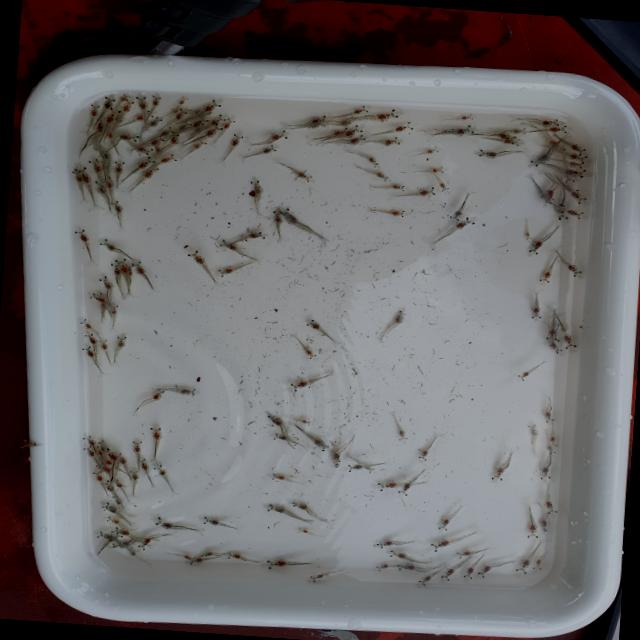babyshrimp: (276, 206, 309, 227), (512, 552, 536, 575), (305, 432, 329, 454), (427, 535, 457, 552), (283, 497, 316, 512), (476, 561, 503, 579), (111, 256, 132, 279), (287, 166, 315, 183), (184, 249, 209, 268), (97, 236, 123, 254), (264, 502, 297, 516), (71, 226, 92, 248), (367, 108, 400, 122), (543, 493, 563, 516), (137, 389, 167, 404), (527, 150, 552, 168), (488, 461, 508, 483), (328, 444, 344, 471), (196, 98, 223, 114), (379, 121, 415, 133), (158, 387, 201, 397), (490, 134, 523, 147), (264, 411, 289, 428), (287, 378, 315, 393), (557, 205, 585, 220), (534, 262, 553, 284), (552, 199, 570, 222), (148, 426, 163, 453), (153, 516, 180, 531), (131, 155, 156, 171), (199, 122, 224, 138), (141, 162, 160, 183), (460, 558, 476, 582), (245, 178, 264, 198), (85, 157, 103, 178), (449, 215, 478, 228), (86, 291, 111, 306), (397, 476, 414, 498), (337, 123, 363, 137), (538, 456, 552, 482), (94, 274, 113, 293), (527, 237, 546, 256), (438, 563, 457, 582), (434, 513, 452, 533), (561, 261, 582, 278), (415, 571, 436, 588), (301, 340, 318, 361), (216, 238, 238, 254), (565, 141, 587, 157), (544, 317, 558, 342), (251, 143, 280, 155), (476, 147, 505, 159), (79, 344, 98, 362), (391, 307, 409, 326), (151, 124, 177, 137), (546, 431, 559, 457), (566, 149, 587, 165), (568, 189, 589, 205), (561, 329, 577, 350), (129, 438, 144, 460), (261, 559, 291, 570), (446, 124, 476, 135), (130, 109, 155, 122), (446, 203, 464, 221), (215, 264, 238, 278), (204, 113, 227, 127), (524, 516, 538, 539), (120, 96, 136, 116), (516, 366, 536, 382), (540, 405, 556, 425), (107, 198, 122, 219), (93, 178, 108, 199), (344, 462, 370, 474), (413, 185, 437, 198), (199, 516, 227, 527), (77, 434, 99, 448), (416, 444, 432, 463), (128, 258, 144, 277), (230, 132, 246, 151), (563, 168, 588, 180), (373, 563, 403, 573), (77, 166, 91, 187), (539, 124, 568, 134), (69, 169, 86, 186), (383, 208, 407, 220), (343, 104, 369, 115), (386, 549, 412, 560), (272, 128, 291, 143), (529, 300, 543, 320), (268, 431, 293, 442), (344, 133, 369, 144), (504, 126, 529, 137), (547, 340, 564, 356), (523, 423, 539, 440), (114, 335, 129, 353), (305, 317, 324, 331), (94, 529, 116, 541), (102, 514, 122, 527), (136, 535, 152, 551), (88, 469, 105, 484), (101, 96, 118, 111), (363, 153, 380, 168), (531, 554, 545, 572), (112, 159, 126, 177), (222, 550, 247, 560), (117, 133, 142, 143), (161, 152, 180, 165), (371, 169, 390, 182), (271, 210, 284, 229), (375, 136, 402, 145), (306, 572, 326, 584), (113, 450, 128, 466), (435, 179, 451, 194), (539, 510, 549, 534), (80, 444, 94, 461), (134, 95, 148, 112), (420, 166, 446, 175), (270, 472, 293, 482), (245, 230, 268, 240), (108, 106, 120, 125), (371, 539, 396, 548), (151, 463, 165, 479), (397, 420, 407, 442), (134, 145, 154, 156), (539, 117, 561, 127), (383, 184, 407, 193), (292, 418, 313, 428), (82, 333, 97, 347), (108, 526, 127, 537), (88, 103, 101, 119), (17, 439, 40, 448), (394, 563, 417, 572), (419, 146, 441, 155), (451, 550, 473, 559), (150, 94, 163, 109), (224, 116, 237, 131), (77, 317, 93, 328), (453, 113, 475, 121), (296, 526, 315, 535), (563, 160, 584, 168), (189, 556, 212, 563), (177, 95, 189, 106), (523, 229, 533, 241), (199, 551, 216, 558)
